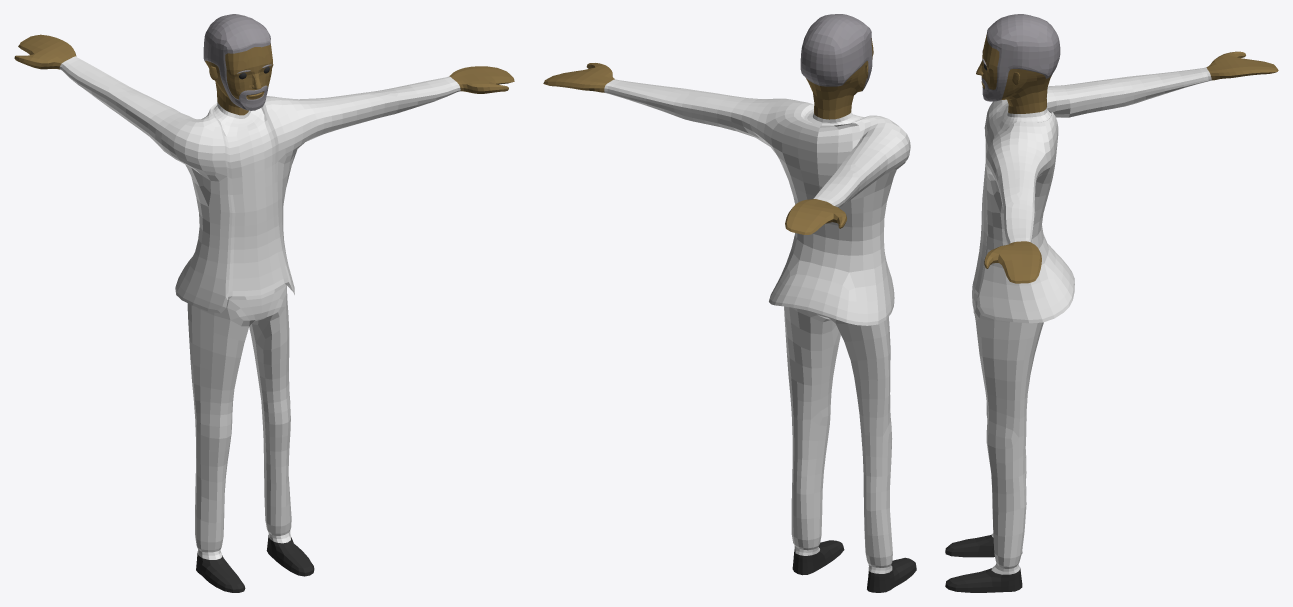
Rendered from SuitVariant_ForMixamo_v2.fbx.
3 views of the same model, side by side, from view 1: azimuth 30°, elevation 25°; view 2: azimuth 150°, elevation 25°; view 3: azimuth 270°, elevation 25° (orthographic). The views are drawn at different scales.
Visible parts, largest first — view 1: SuitVariant_ForMixamo_v2; view 2: SuitVariant_ForMixamo_v2; view 3: SuitVariant_ForMixamo_v2.
Boxes of the visible parts, box(x1,y1,x2,y2) form: SuitVariant_ForMixamo_v2: box(14, 14, 514, 592); SuitVariant_ForMixamo_v2: box(543, 14, 916, 592); SuitVariant_ForMixamo_v2: box(945, 14, 1278, 592).
Bounding box in the file's own units: 366 × 484 × 265.
